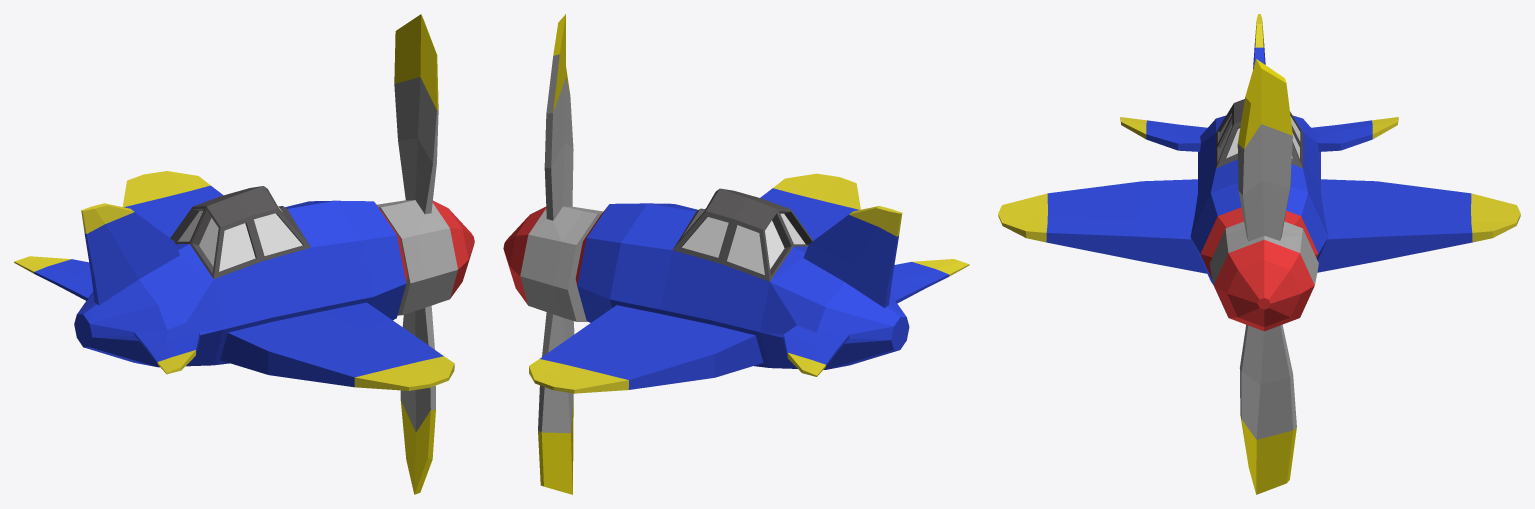
3 views of the same model, side by side, from view 1: azimuth 30°, elevation 25°; view 2: azimuth 150°, elevation 25°; view 3: azimuth 270°, elevation 25° (orthographic). The views are drawn at different scales.
Visible parts, largest first — view 1: Cylinder, Cylinder.001; view 2: Cylinder, Cylinder.001; view 3: Cylinder, Cylinder.001.
Boxes of the visible parts, <box> form: Cylinder: <box>14,171,454,390</box>; Cylinder.001: <box>377,14,474,494</box>; Cylinder: <box>529,173,969,393</box>; Cylinder.001: <box>503,14,603,494</box>; Cylinder: <box>998,14,1520,284</box>; Cylinder.001: <box>1209,59,1318,494</box>.
Size of the model in its own units: 6.71 by 7.83 by 8.49.
